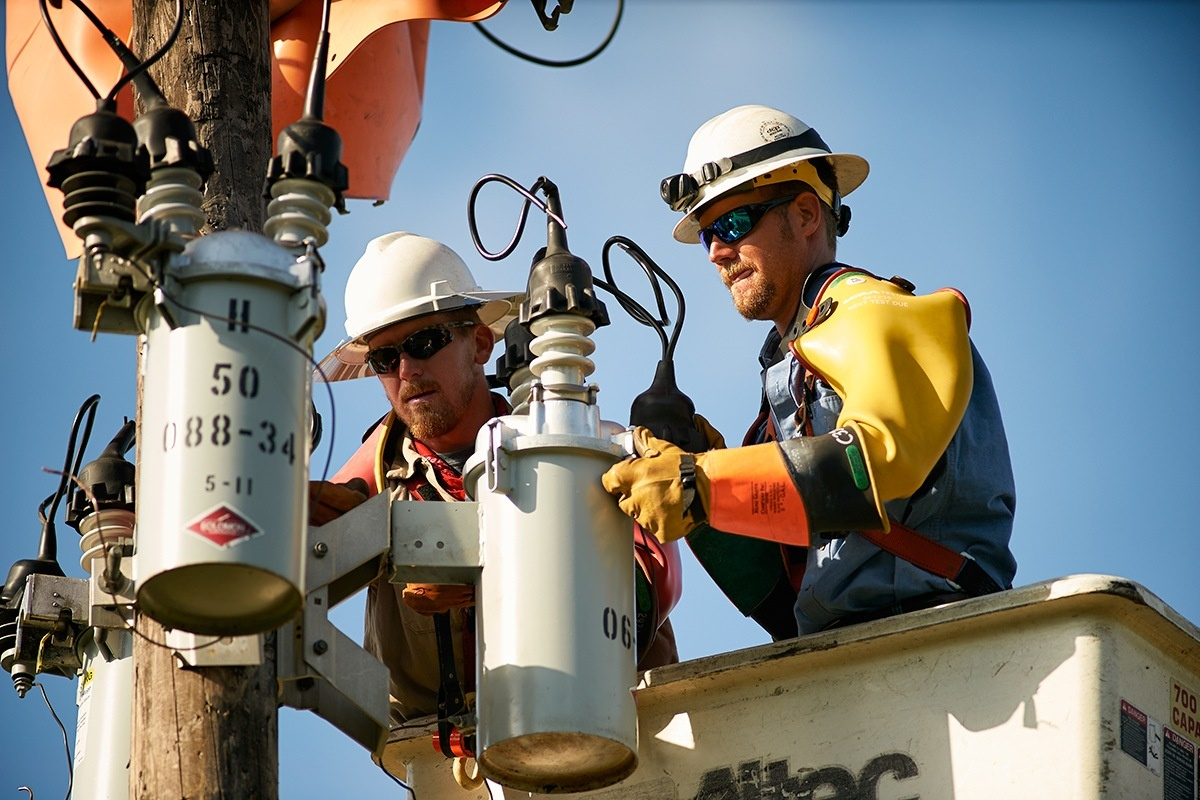epi: (623, 96, 1034, 604), (295, 222, 701, 710)
